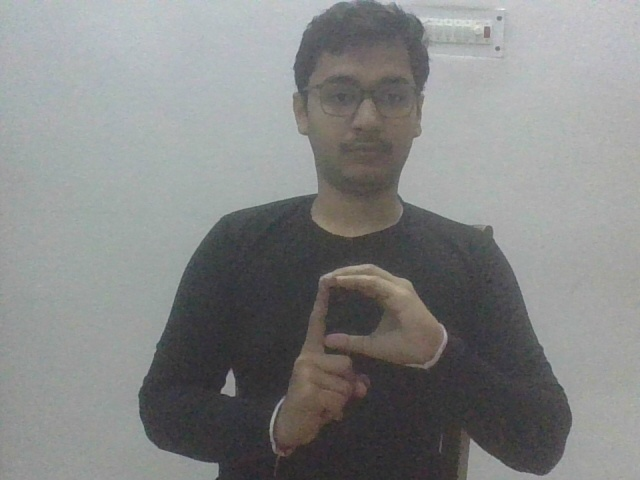D: (268, 256, 449, 460)
